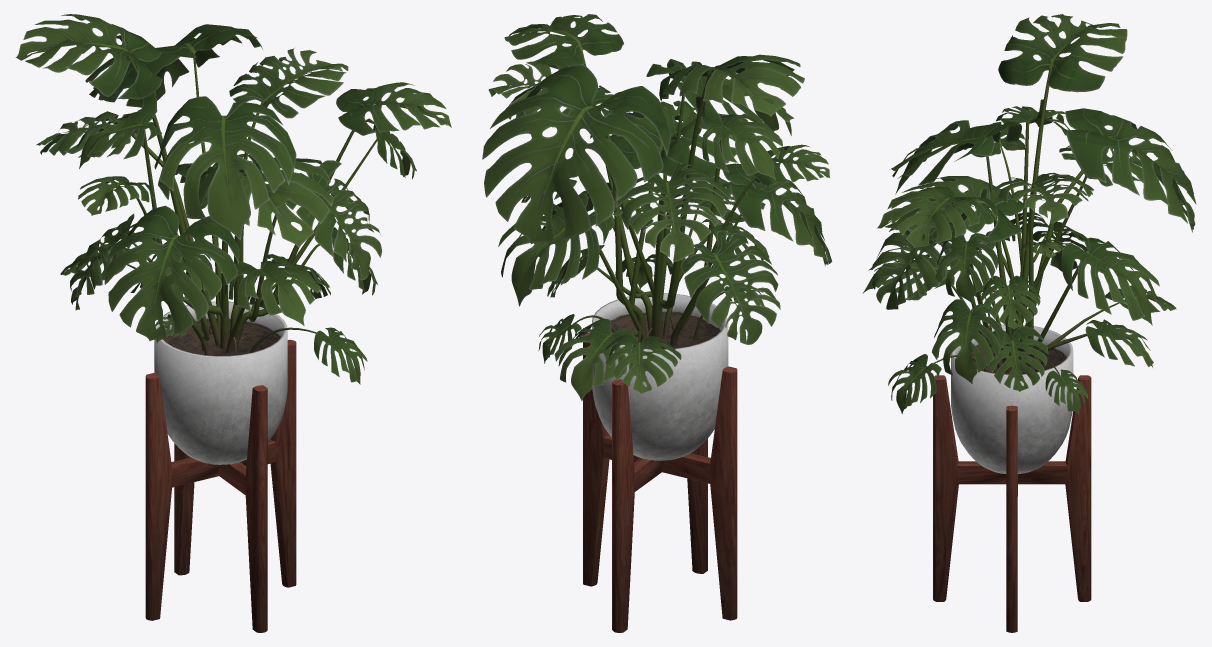
File: plant.obj
3 views of the same model, side by side, from view 1: azimuth 30°, elevation 25°; view 2: azimuth 150°, elevation 25°; view 3: azimuth 270°, elevation 25° (orthographic). The views are drawn at different scales.
Parts seen in each view (by area): view 1: Leaves_Mat.1_0, Stand_Mat_0, Pot_LP_Mat_0, root_HP_1_Mat.2_0; view 2: Leaves_Mat.1_0, Stand_Mat_0, Pot_LP_Mat_0, root_HP_1_Mat.2_0; view 3: Leaves_Mat.1_0, Stand_Mat_0, Pot_LP_Mat_0, root_HP_1_Mat.2_0.
Boxes of the visible parts, box(x1,y1,x2,y2) form: Leaves_Mat.1_0: box(15, 14, 451, 384); Stand_Mat_0: box(145, 339, 296, 632); Pot_LP_Mat_0: box(154, 301, 287, 464); root_HP_1_Mat.2_0: box(124, 53, 376, 355); Leaves_Mat.1_0: box(482, 14, 832, 400); Stand_Mat_0: box(583, 332, 737, 632); Pot_LP_Mat_0: box(592, 293, 728, 460); root_HP_1_Mat.2_0: box(559, 50, 756, 346); Leaves_Mat.1_0: box(862, 14, 1196, 414); Stand_Mat_0: box(933, 375, 1091, 632); Pot_LP_Mat_0: box(951, 324, 1073, 473); root_HP_1_Mat.2_0: box(933, 68, 1124, 375).
Bounding box in the file's own units: 0.8695 × 1.36 × 0.7911.
3 materials, 3 textured.
